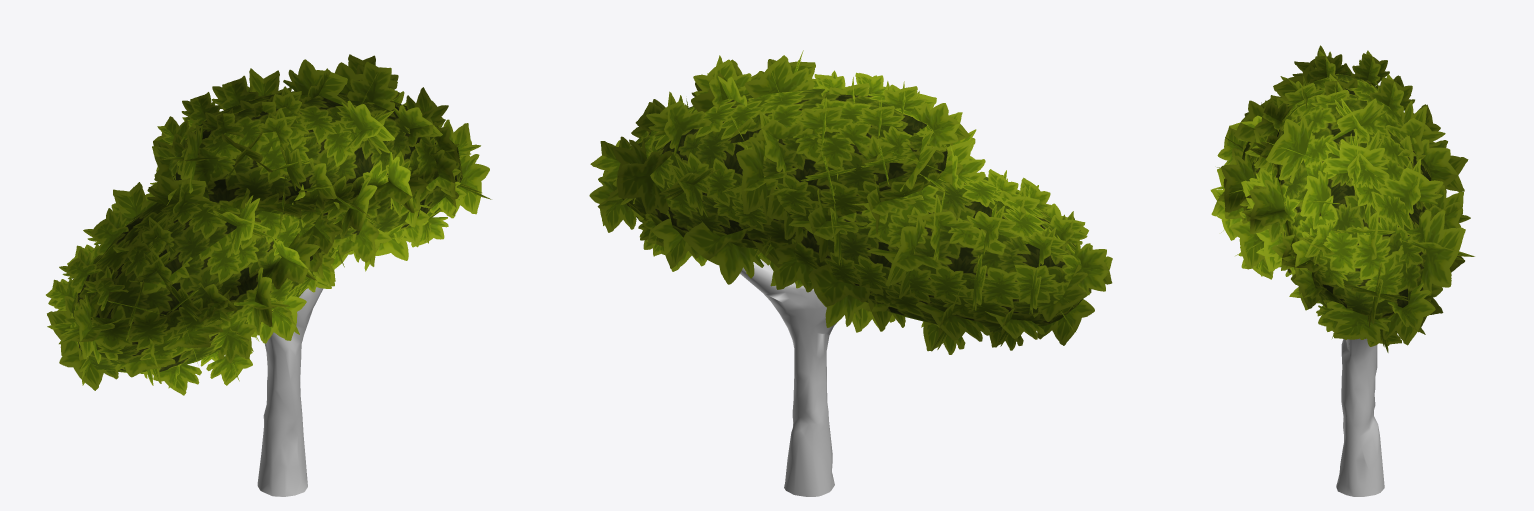
The model's file is SM_Tree02.fbx.
The picture shows the model from 3 angles, left to right: view 1: azimuth 30°, elevation 25°; view 2: azimuth 150°, elevation 25°; view 3: azimuth 270°, elevation 25°; orthographic projection. The views are drawn at different scales.
Parts seen in each view (by area): view 1: Cube.001; view 2: Cube.001; view 3: Cube.001.
Boxes of the visible parts, x1,y1,x2,y2 form: Cube.001: (46, 54, 491, 496); Cube.001: (589, 50, 1112, 496); Cube.001: (1210, 45, 1474, 496).
Size of the model in its own units: 181 by 313 by 254.
